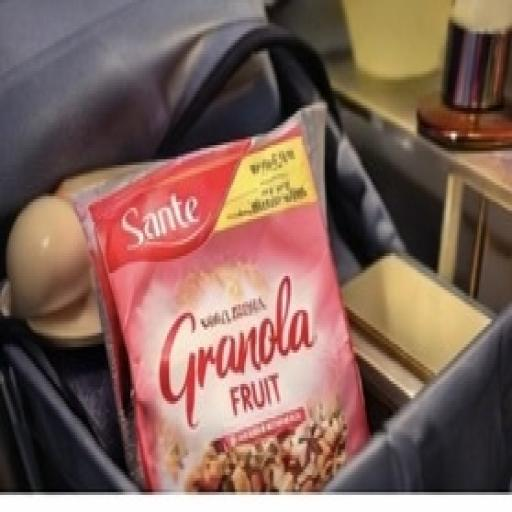granola: (54, 113, 410, 500)
